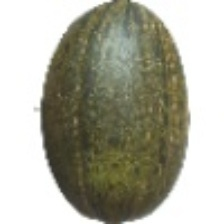honeydew: (36, 7, 221, 172)
